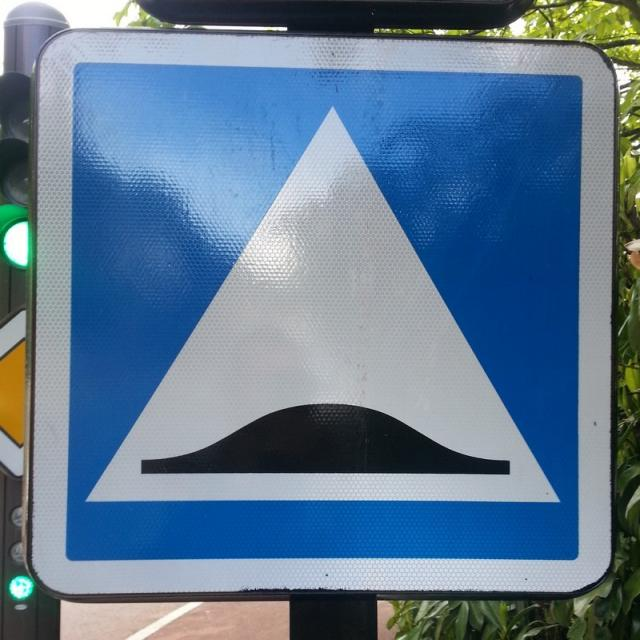hump: (21, 32, 627, 606)
